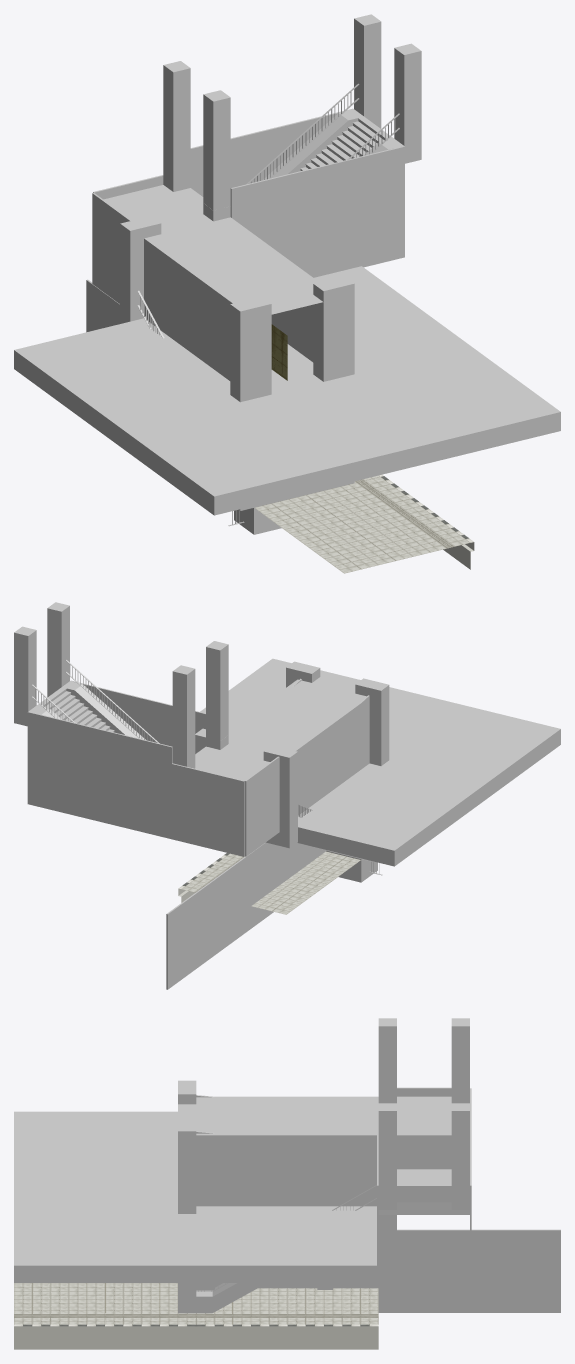
Rendered from ModulesPack2.fbx.
3 views of the same model, one above another, from view 1: azimuth 30°, elevation 25°; view 2: azimuth 150°, elevation 25°; view 3: azimuth 270°, elevation 25° (orthographic). The views are drawn at different scales.
Visible parts, largest first — view 1: Staircase, CeilingLarge, Ceiling Small, PlatformCenter, StairsWide, PlatformEdge, StairsThin, WallLong, Stopper, WallTopSmall; view 2: Staircase, CeilingLarge, WallLong, StairsWide, Ceiling Small, PlatformCenter, PlatformEdge, Stopper; view 3: CeilingLarge, Staircase, WallLong, PlatformEdge, Ceiling Small, PlatformCenter, StairsWide.
Part boxes in pixels (x1,y1,x2,y2): Staircase: [92, 14, 421, 395]; CeilingLarge: [14, 266, 560, 515]; Ceiling Small: [64, 302, 463, 478]; PlatformCenter: [254, 486, 430, 573]; StairsWide: [120, 220, 354, 510]; PlatformEdge: [341, 474, 474, 569]; StairsThin: [134, 206, 340, 507]; WallLong: [86, 279, 119, 332]; Stopper: [234, 484, 340, 534]; WallTopSmall: [271, 324, 287, 380]; Staircase: [14, 602, 369, 858]; CeilingLarge: [200, 658, 560, 866]; WallLong: [166, 842, 325, 989]; StairsWide: [195, 661, 389, 862]; Ceiling Small: [200, 689, 511, 818]; PlatformCenter: [251, 851, 360, 914]; PlatformEdge: [178, 853, 244, 902]; Stopper: [326, 850, 377, 882]; CeilingLarge: [14, 1111, 376, 1282]; Staircase: [178, 1018, 471, 1287]; WallLong: [258, 1229, 560, 1312]; PlatformEdge: [14, 1307, 378, 1349]; Ceiling Small: [105, 1111, 287, 1282]; PlatformCenter: [14, 1283, 378, 1306]; StairsWide: [178, 1080, 396, 1313].
Size of the model in its own units: 2351 by 1850 by 3000.
